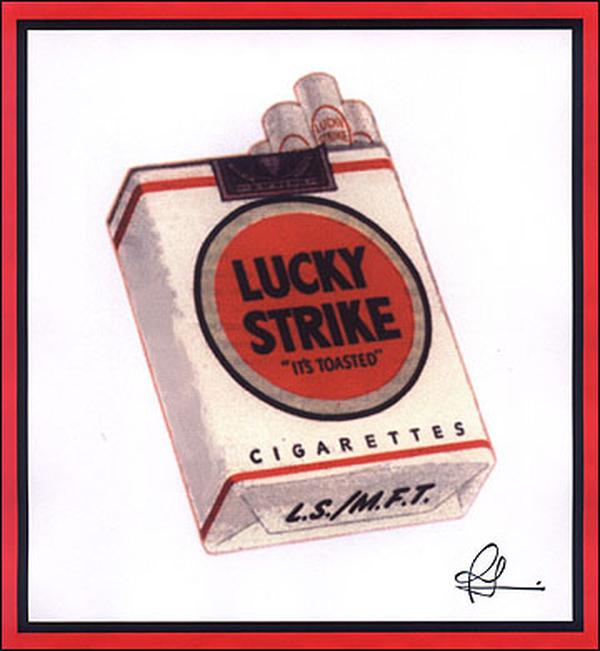lucky_strike_red: (177, 159, 439, 479)
